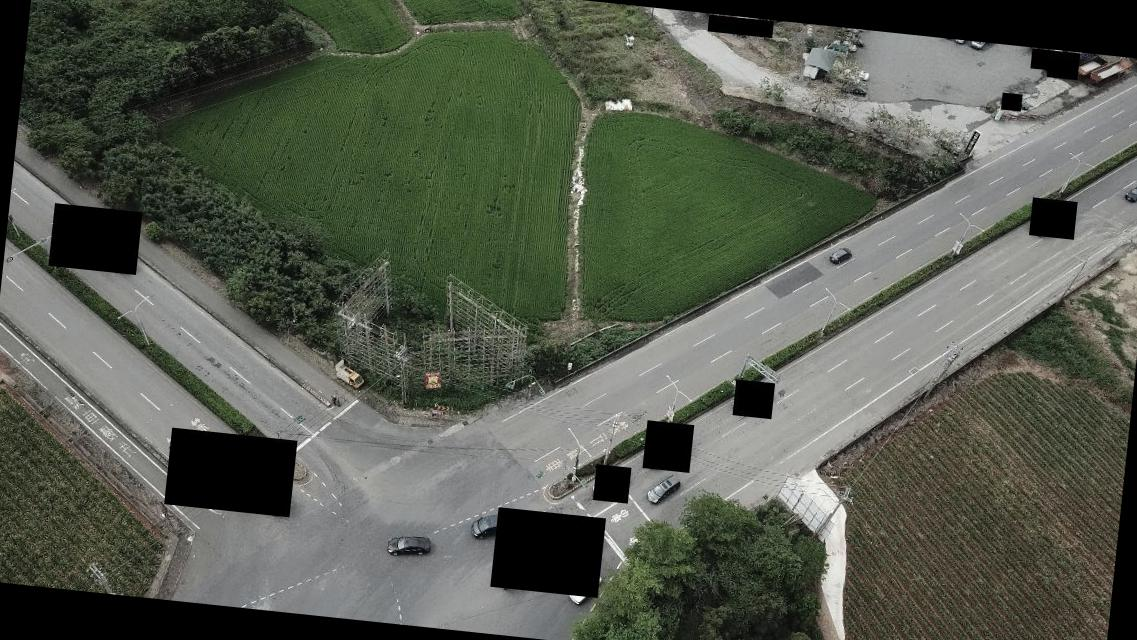vehicle: (469, 506, 519, 542), (386, 532, 432, 560), (568, 570, 602, 606), (646, 472, 681, 506), (333, 362, 365, 389), (827, 242, 854, 266), (1124, 181, 1136, 203)
